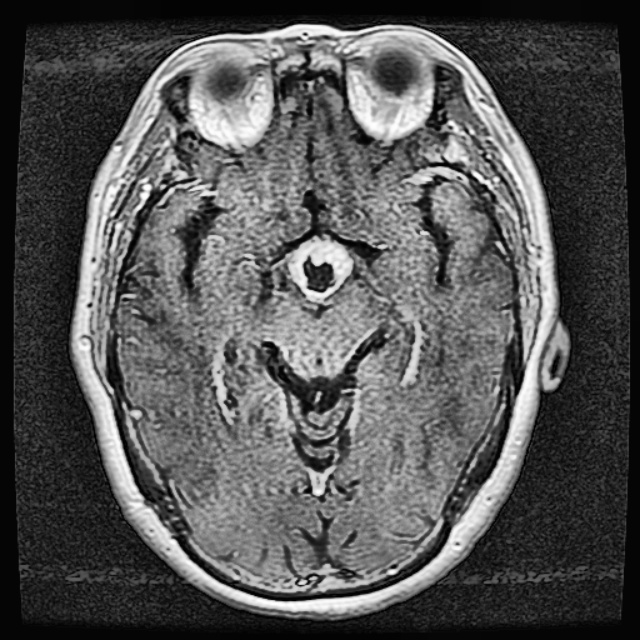Pituitary: (289, 237, 352, 298)
